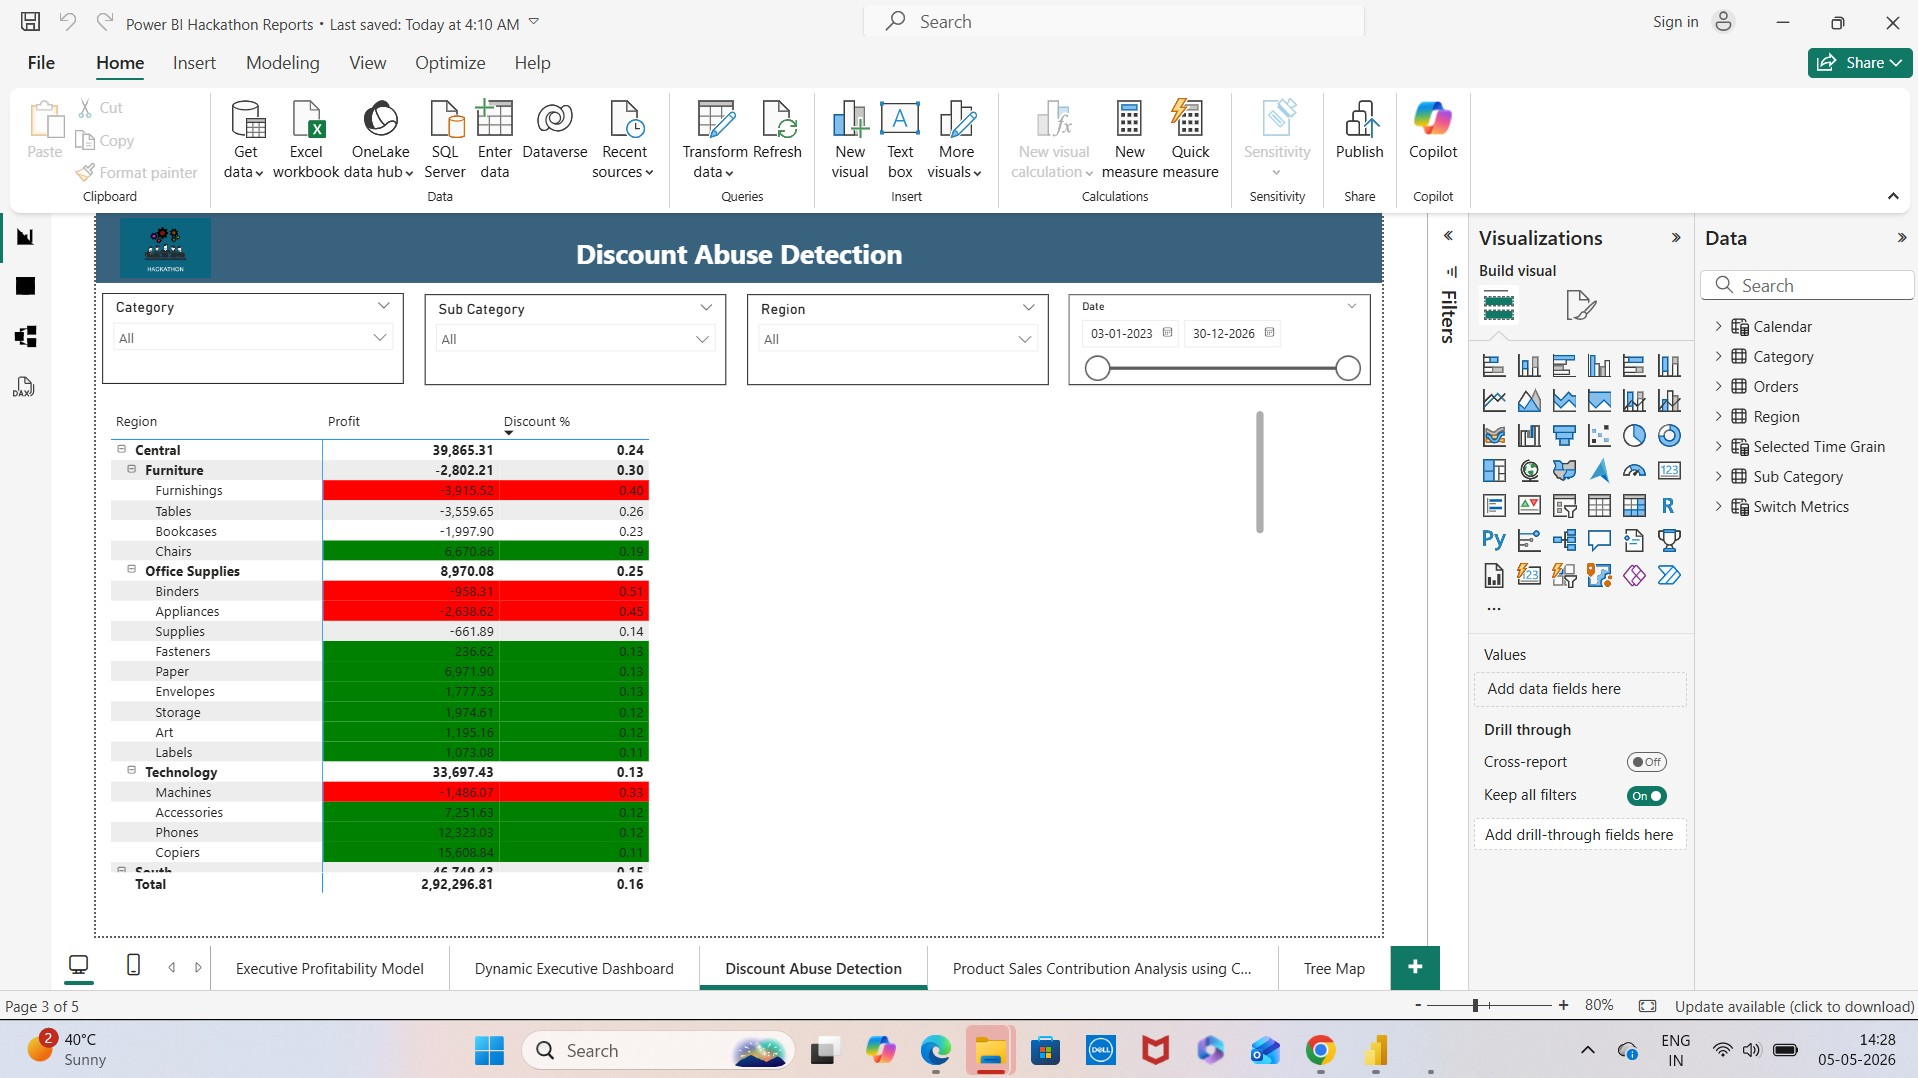

The page's visual inventory and layout, read from the dashboard file:
{"tool":"powerbi","page":{"name":"Discount Abuse Detection","canvas":[1280,720],"ordinal":2},"visuals":[{"type":"pivotTable","fields":{"Rows":["Region.Region","Category.Category","Sub Category.Sub-Category"],"Values":["Orders.Profit_Click","Orders.-- 1. Identify the average discount for the selected contextAvg Discount %"]},"box":[10,191.6,1158.1,490.1],"z":0},{"type":"slicer","fields":{"Values":["Category.Category"]},"box":[6.3,80,300,90],"z":1000},{"type":"slicer","fields":{"Values":["Sub Category.Sub-Category"]},"box":[326.6,81,300,90],"z":2000},{"type":"slicer","fields":{"Values":["Region.Region"]},"box":[647.7,81,300,90],"z":3000},{"type":"slicer","fields":{"Values":["Calender.Date"]},"box":[967.4,81,300.5,90.6],"z":4000},{"type":"textbox","box":[0,0,1280.3,70],"z":5000},{"type":"image","box":[0,0,138.6,70],"z":6000}]}

Visuals, with their boxes on the page's 1280x720 design canvas (x1, y1, x2, y2). These are canvas units, not pixel positions in the 1918x1078 screenshot, which may show the page scaled, cropped or inside an application window:
pivotTable - Region.Region x Category.Category: bbox(10, 192, 1168, 682)
slicer - Category.Category: bbox(6, 80, 306, 170)
slicer - Sub Category.Sub-Category: bbox(327, 81, 627, 171)
slicer - Region.Region: bbox(648, 81, 948, 171)
slicer - Calender.Date: bbox(967, 81, 1268, 172)
textbox: bbox(0, 0, 1280, 70)
image: bbox(0, 0, 139, 70)
